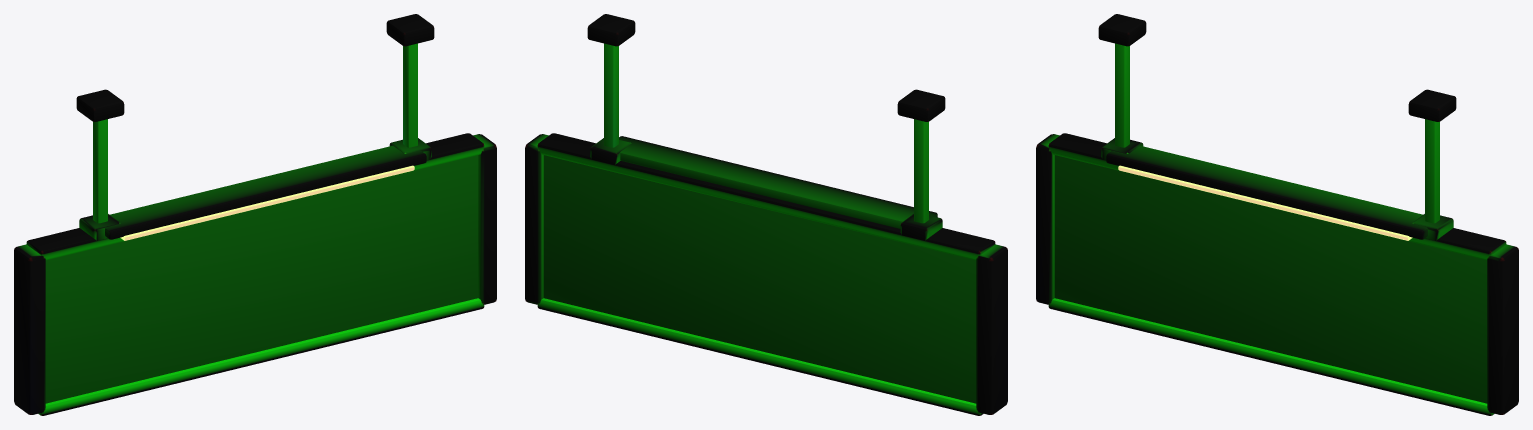
File: hero_hanging_sign.glb
3 views of the same model, side by side, from view 1: azimuth 30°, elevation 25°; view 2: azimuth 150°, elevation 25°; view 3: azimuth 330°, elevation 25° (orthographic).
Visible parts, largest first — view 1: HeroHangingSign; view 2: HeroHangingSign; view 3: HeroHangingSign.
Boxes of the visible parts, <box> form: HeroHangingSign: <box>14,14,496,415</box>; HeroHangingSign: <box>525,14,1007,415</box>; HeroHangingSign: <box>1036,14,1518,415</box>.
Size of the model in its own units: 2.66 by 1.61 by 0.23.
